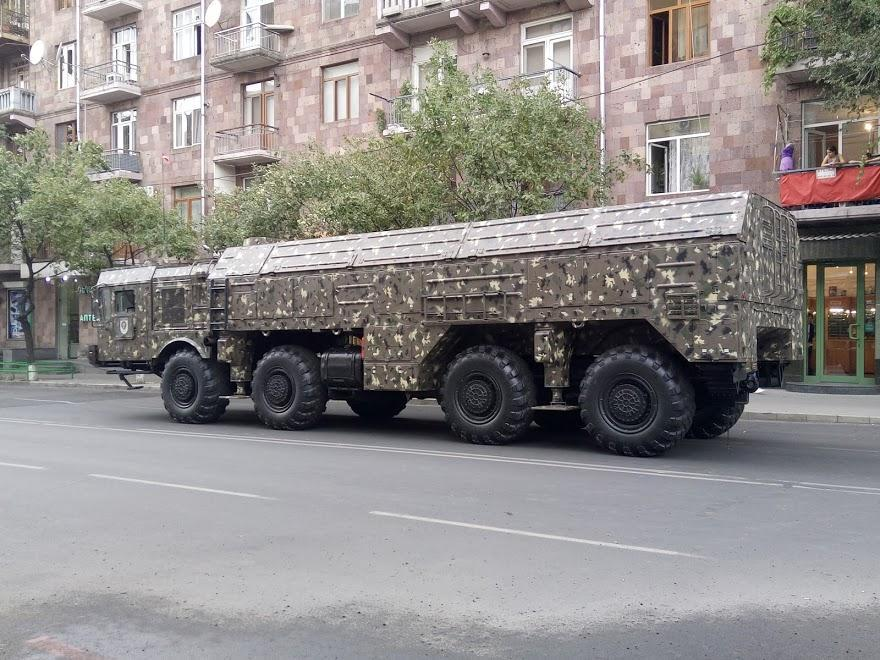rszo: (72, 177, 816, 481)
